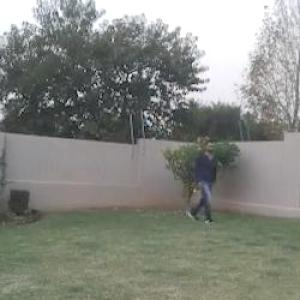follow: (191, 133, 217, 226)
